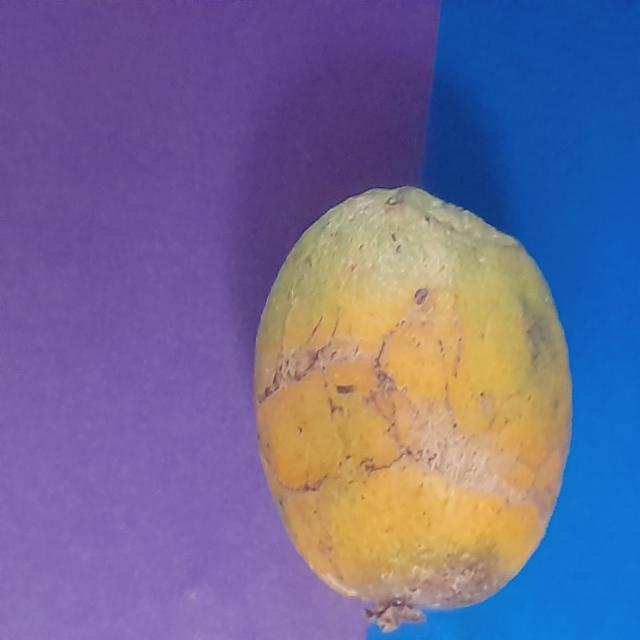thrips: (253, 188, 573, 621)
